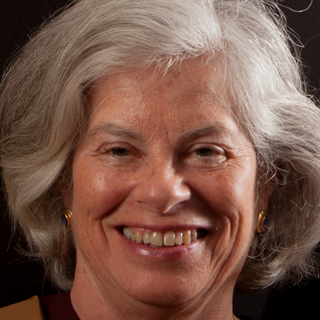eye: (97, 140, 143, 164), (183, 141, 230, 164)
